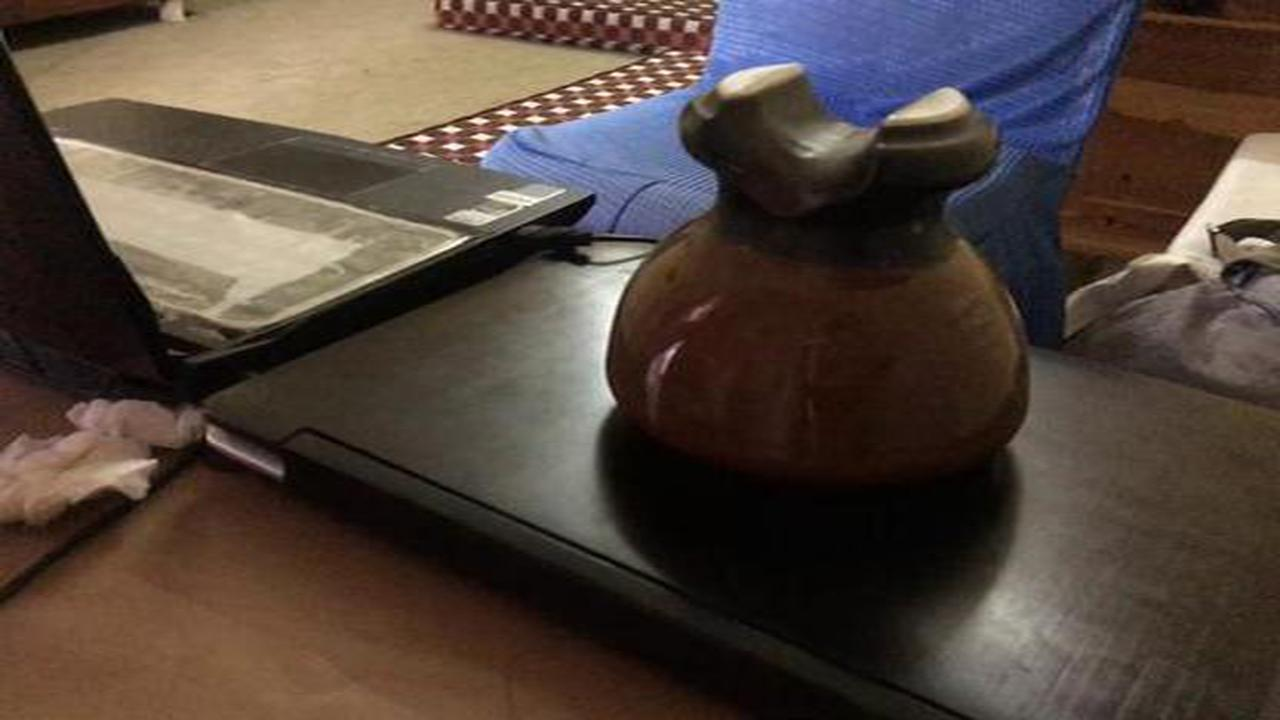insulator_pin: (601, 46, 1047, 501)
